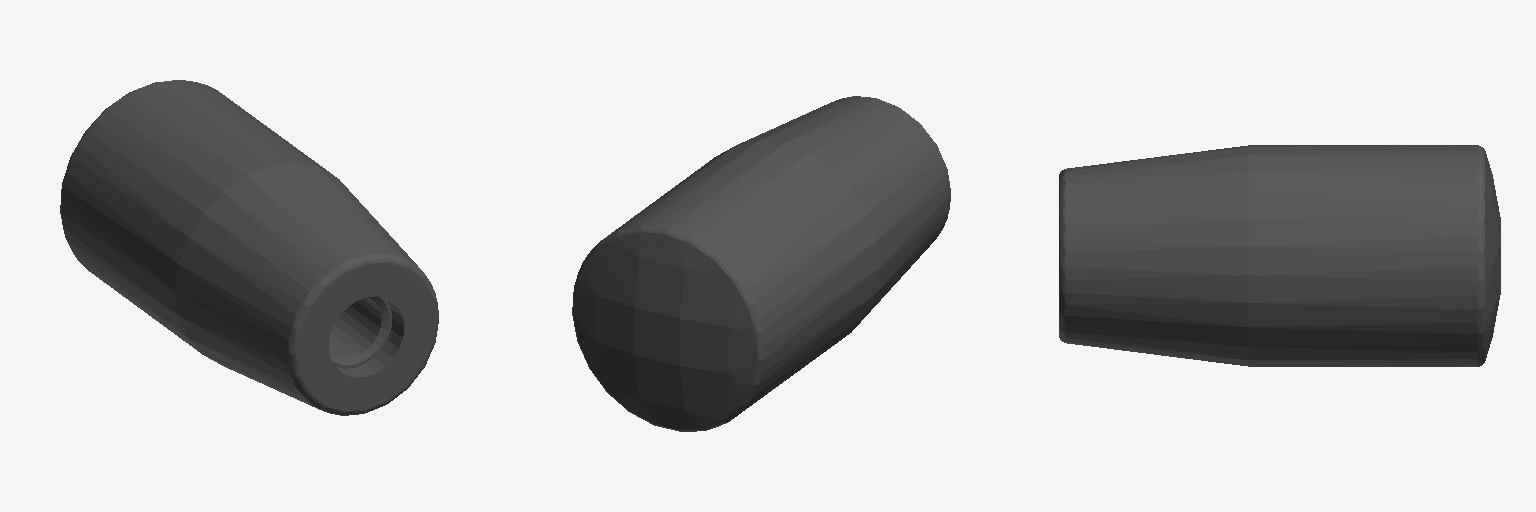
Rendered from ganter_gn_519-14-m5.obj.
The picture shows the model from 3 angles: view 1: azimuth 30°, elevation 25°; view 2: azimuth 150°, elevation 25°; view 3: azimuth 270°, elevation 25°; orthographic projection.
Parts seen in each view (by area): view 1: ganter_gn_519-14-m5_1; view 2: ganter_gn_519-14-m5_1; view 3: ganter_gn_519-14-m5_1.
Boxes of the visible parts, x1,y1,x2,y2 form: ganter_gn_519-14-m5_1: [60, 80, 438, 415]; ganter_gn_519-14-m5_1: [572, 96, 950, 431]; ganter_gn_519-14-m5_1: [1059, 145, 1500, 366].
Bounding box in the file's own units: 14 × 14 × 27.86.